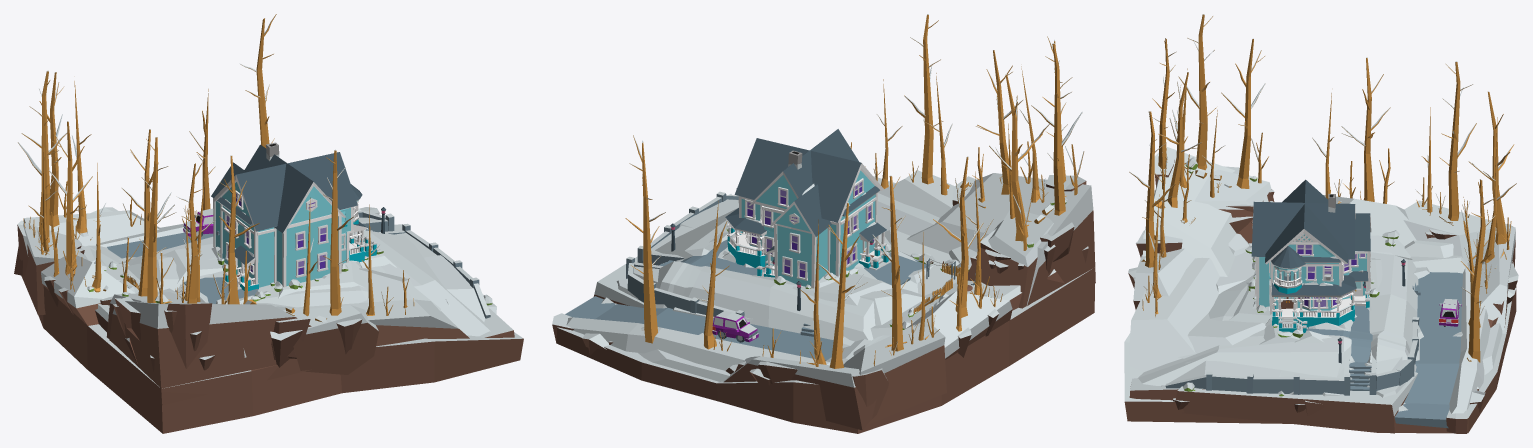
The model's file is casaconjunto_lev5.glb.
The picture shows the model from 3 angles, left to right: view 1: azimuth 30°, elevation 25°; view 2: azimuth 150°, elevation 25°; view 3: azimuth 270°, elevation 25°; orthographic projection. The views are drawn at different scales.
Parts seen in each view (by area): view 1: group1504191420, group2060585404, group101140434, casaconjunto_lev5, group1280178183, group1617572247, group1624478577, group1355921627, group231707998, group1145969062, group437086382, group1196403785 (+27 smaller); view 2: group2060585404, group1504191420, casaconjunto_lev5, group101140434, group231707998, group990022888, group1355921627, group1472510813, group1108866900, group1624478577, group1374377478, group1280178183 (+26 smaller); view 3: group2060585404, casaconjunto_lev5, group1742717586, group1617572247, group1108866900, group101140434, group1504191420, group990022888, group231707998, group1472510813, group1355921627, group1280178183 (+31 smaller).
Part boxes in pixels (bbox=[...]): group1504191420: bbox=[38, 286, 523, 433]; group2060585404: bbox=[211, 142, 383, 290]; group101140434: bbox=[109, 301, 311, 405]; casaconjunto_lev5: bbox=[118, 230, 490, 336]; group1280178183: bbox=[293, 305, 378, 374]; group1617572247: bbox=[294, 299, 469, 346]; group1624478577: bbox=[41, 255, 135, 325]; group1355921627: bbox=[14, 210, 160, 275]; group231707998: bbox=[21, 222, 88, 315]; group1145969062: bbox=[167, 302, 212, 368]; group437086382: bbox=[323, 149, 353, 315]; group1196403785: bbox=[424, 255, 485, 321]; group2060585404: bbox=[722, 129, 889, 288]; group1504191420: bbox=[556, 267, 1095, 433]; casaconjunto_lev5: bbox=[655, 208, 918, 341]; group101140434: bbox=[906, 173, 1095, 305]; group231707998: bbox=[843, 324, 946, 425]; group990022888: bbox=[566, 317, 830, 370]; group1355921627: bbox=[723, 356, 876, 430]; group1472510813: bbox=[967, 210, 1053, 308]; group1108866900: bbox=[595, 304, 833, 360]; group1624478577: bbox=[906, 291, 1012, 359]; group1374377478: bbox=[625, 135, 665, 343]; group1280178183: bbox=[878, 170, 954, 217]; group2060585404: bbox=[1251, 179, 1371, 337]; casaconjunto_lev5: bbox=[1138, 252, 1418, 386]; group1742717586: bbox=[1175, 372, 1417, 433]; group1617572247: bbox=[1129, 257, 1219, 371]; group1108866900: bbox=[1404, 272, 1462, 404]; group101140434: bbox=[1143, 147, 1251, 276]; group1504191420: bbox=[1124, 261, 1516, 433]; group990022888: bbox=[1449, 268, 1490, 413]; group231707998: bbox=[1403, 200, 1507, 262]; group1472510813: bbox=[1194, 169, 1274, 243]; group1355921627: bbox=[1467, 227, 1515, 330]; group1280178183: bbox=[1133, 248, 1194, 309].
Size of the model in its own units: 156 by 109 by 149.
